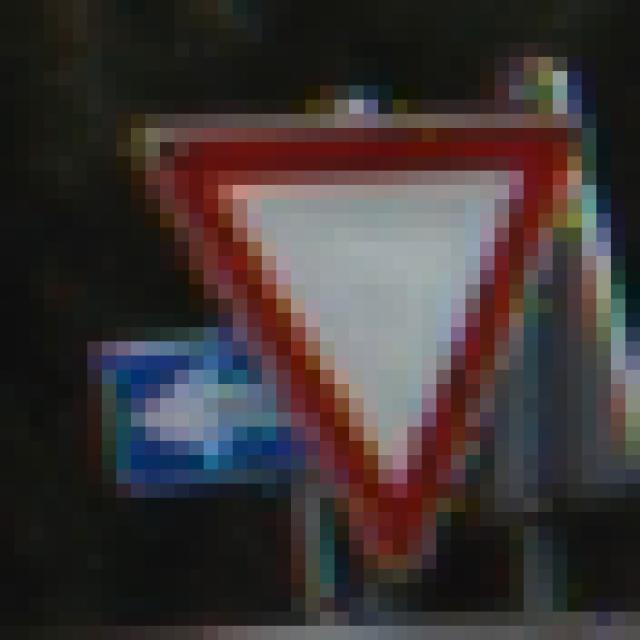Give Way: (89, 86, 569, 570)
